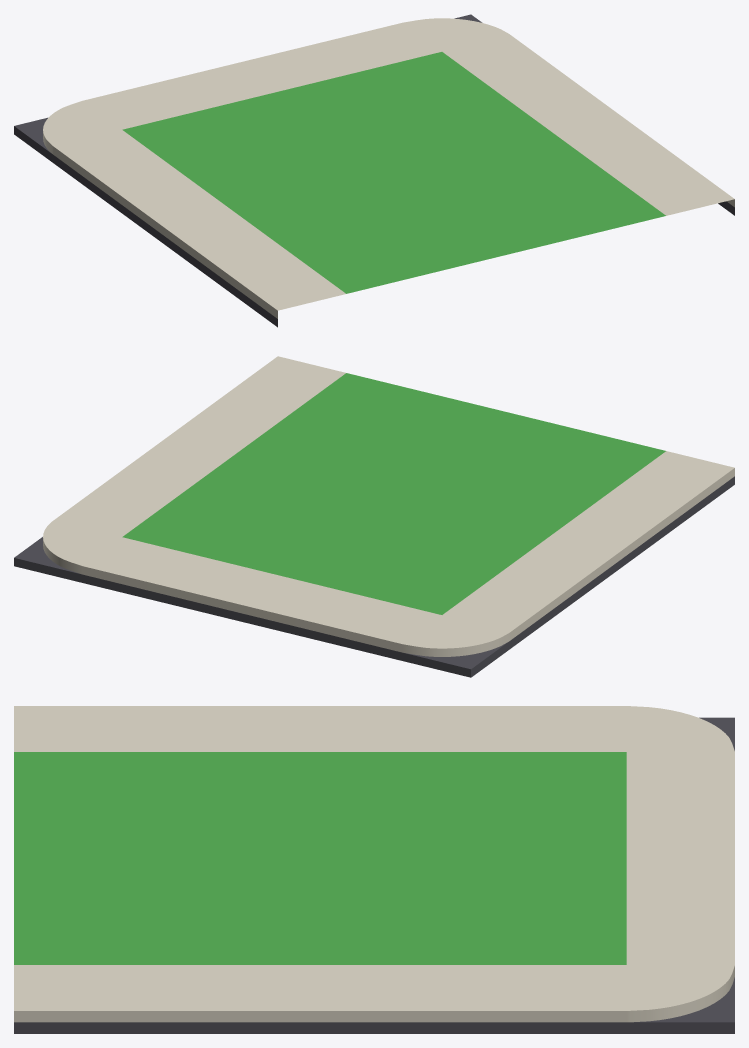
Rendered from grass_int_dual.fbx.
The picture shows the model from 3 angles, top to bottom: view 1: azimuth 30°, elevation 25°; view 2: azimuth 150°, elevation 25°; view 3: azimuth 270°, elevation 25°; orthographic projection. The views are drawn at different scales.
Parts seen in each view (by area): view 1: grasss_intersection_dual; view 2: grasss_intersection_dual; view 3: grasss_intersection_dual.
Part boxes in pixels (box(x1,y1,x2,y2)): grasss_intersection_dual: box(14, 14, 734, 327); grasss_intersection_dual: box(14, 356, 734, 677); grasss_intersection_dual: box(14, 706, 734, 1033).
Size of the model in its own units: 1000 by 35.23 by 1000.
